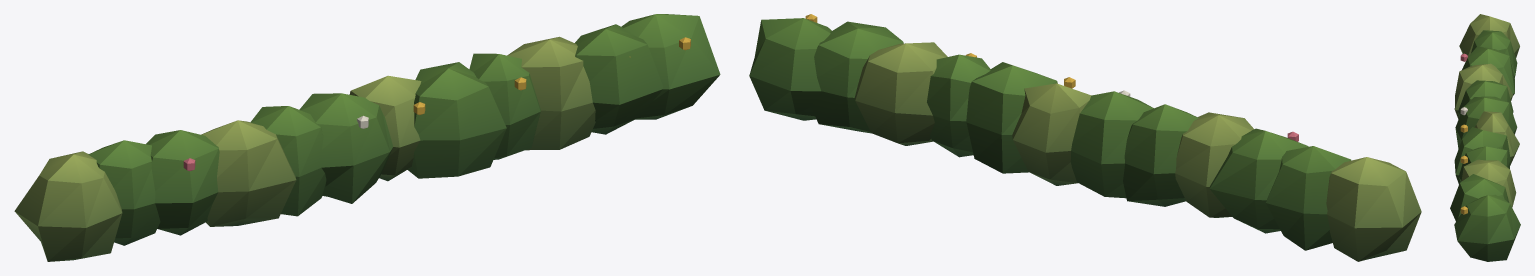
The model's file is scene_hedge_0.glb.
The picture shows the model from 3 angles, left to right: view 1: azimuth 30°, elevation 25°; view 2: azimuth 150°, elevation 25°; view 3: azimuth 270°, elevation 25°; orthographic projection. The views are drawn at different scales.
Parts seen in each view (by area): view 1: scene_hedge_0; view 2: scene_hedge_0; view 3: scene_hedge_0.
Part boxes in pixels (x1,y1,x2,y2): scene_hedge_0: (14, 14, 720, 261); scene_hedge_0: (749, 14, 1421, 261); scene_hedge_0: (1450, 14, 1520, 261).
Bounding box in the file's own units: 7.51 × 1.12 × 1.07.
